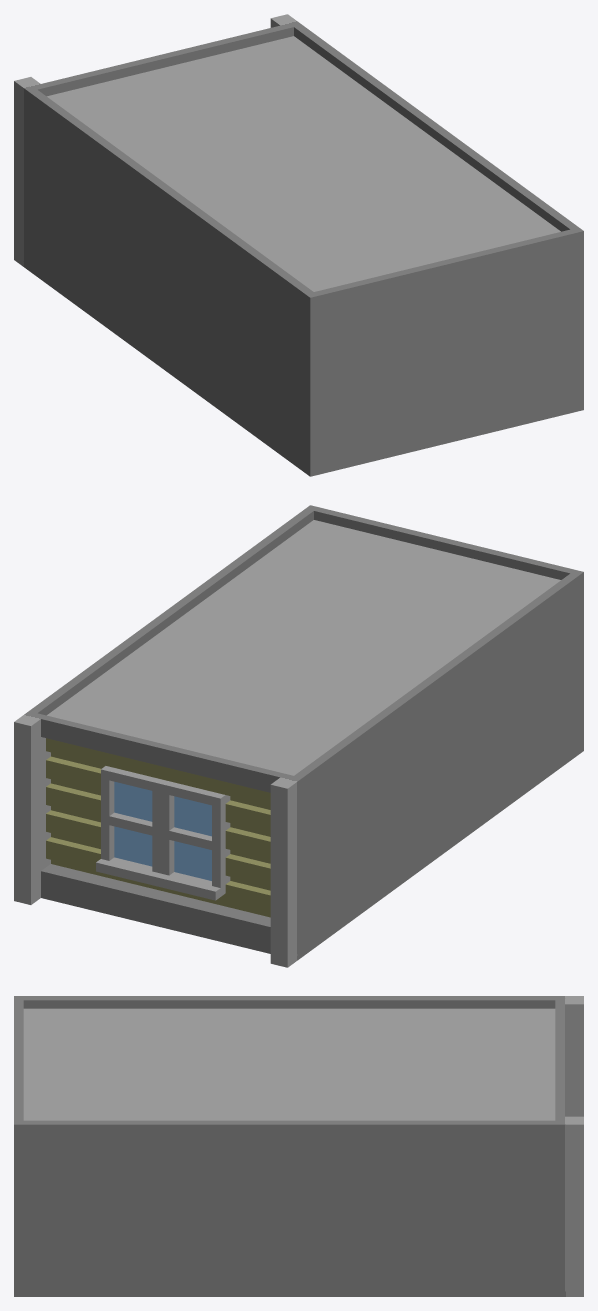
Rendered from obj_story03d.fbx.
3 views of the same model, one above another, from view 1: azimuth 30°, elevation 25°; view 2: azimuth 150°, elevation 25°; view 3: azimuth 270°, elevation 25° (orthographic). The views are drawn at different scales.
Visible parts, largest first — view 1: obj_story03d; view 2: obj_story03d; view 3: obj_story03d.
Boxes of the visible parts, left/top/right/bottom form: obj_story03d: left=14, top=14, right=583, bottom=476; obj_story03d: left=14, top=505, right=583, bottom=967; obj_story03d: left=14, top=996, right=583, bottom=1296.
Bounding box in the file's own units: 3.2 × 6 × 2.
Materials: 1 (1 with a texture image).
